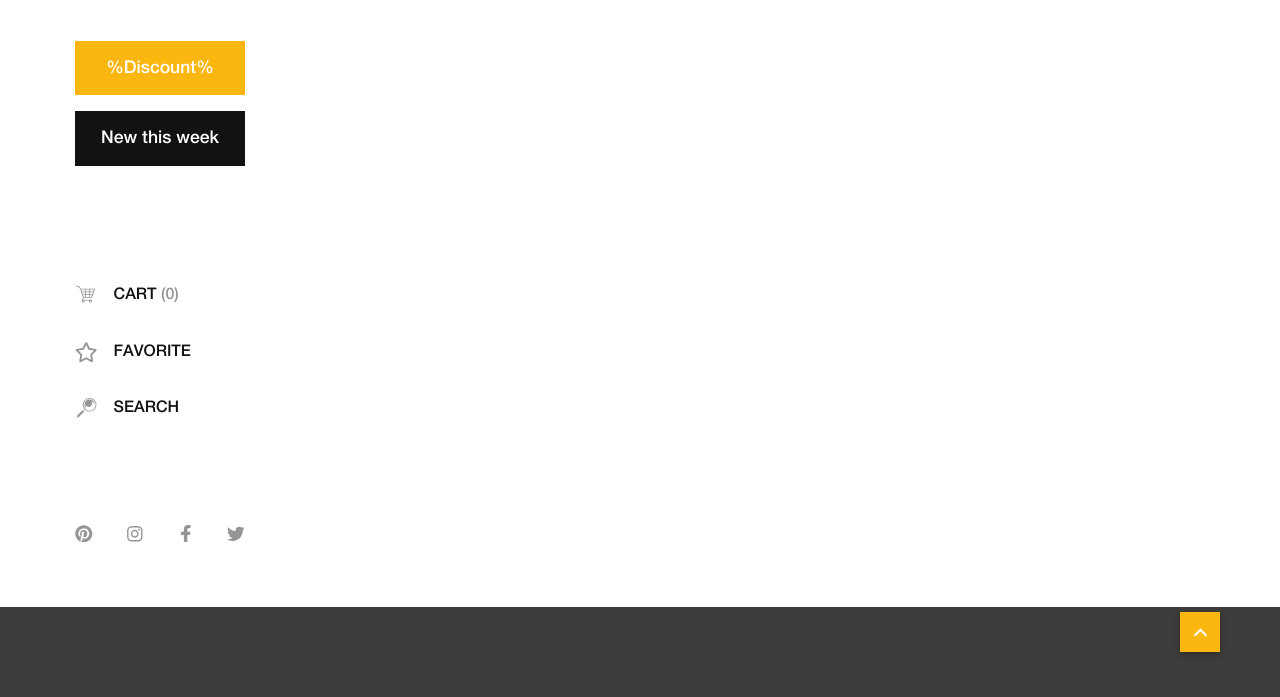
Test: Sidebar spec › Should navigate to the favorite page if the favorite link is clicked
The image size is (1280, 697).
(page scrolled)
Hover over the link "favorite" at (133, 352), box [75,341,191,363]
Click the link "favorite" at (133, 352), box [75,341,191,363]
(page scrolled)
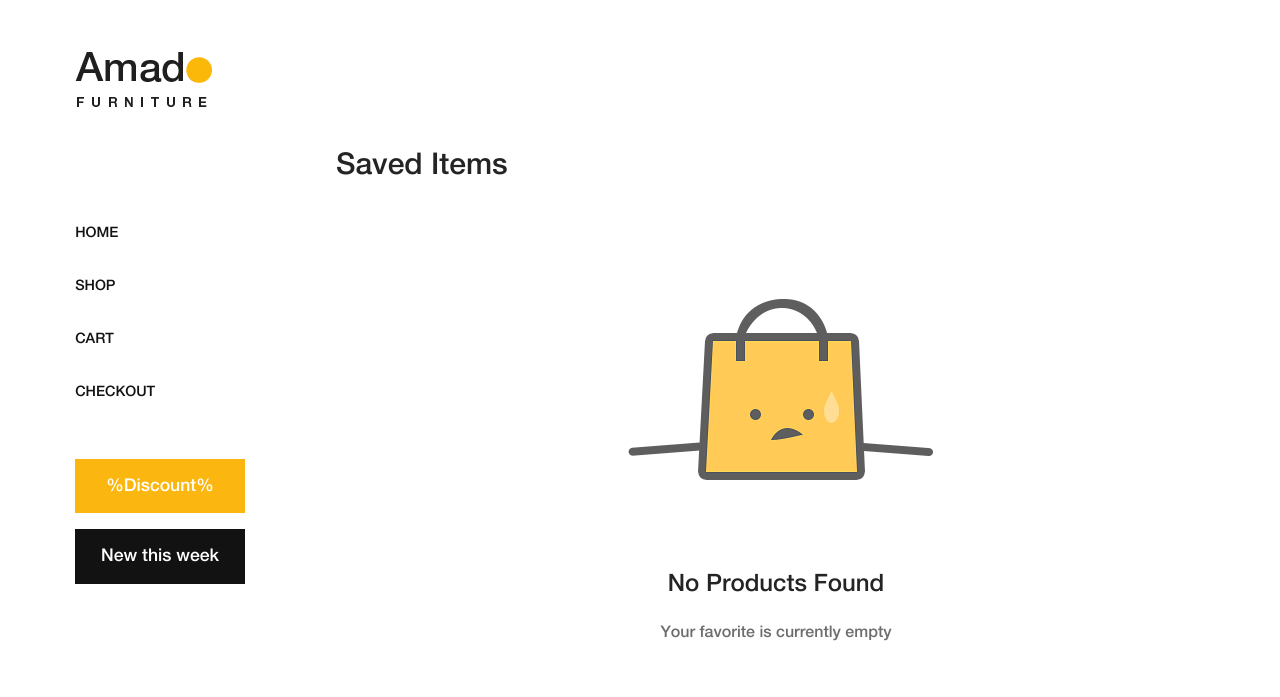
Now the heading "saved items" is shown, box [336,150,508,181]
